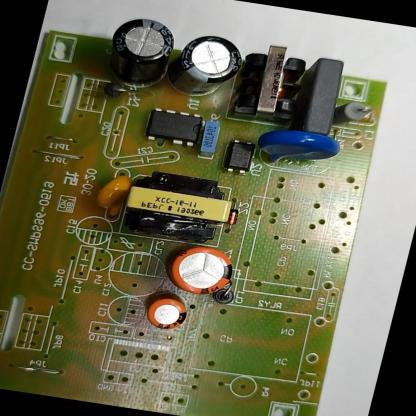Cap1: (162, 240, 244, 303)
Cap2: (142, 292, 192, 336)
Cap3: (166, 30, 249, 104)
Cap4: (99, 12, 184, 92)
MOSFET: (139, 104, 207, 149)
Mov: (254, 122, 348, 172)
Resistor: (330, 97, 375, 131)
Transformer: (116, 166, 239, 246), (232, 41, 315, 126)
